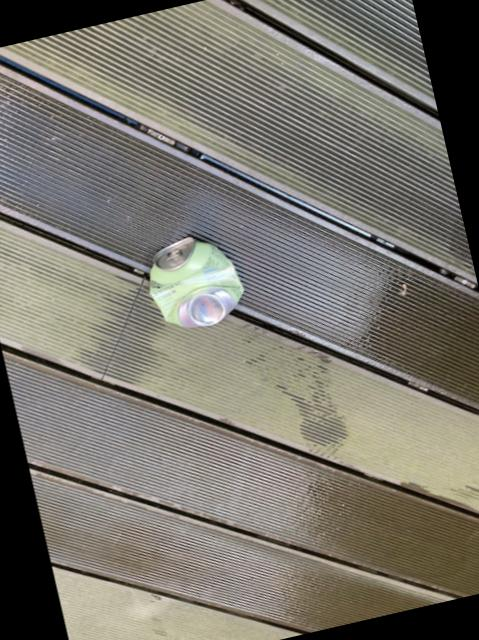metal: (151, 238, 244, 329)
